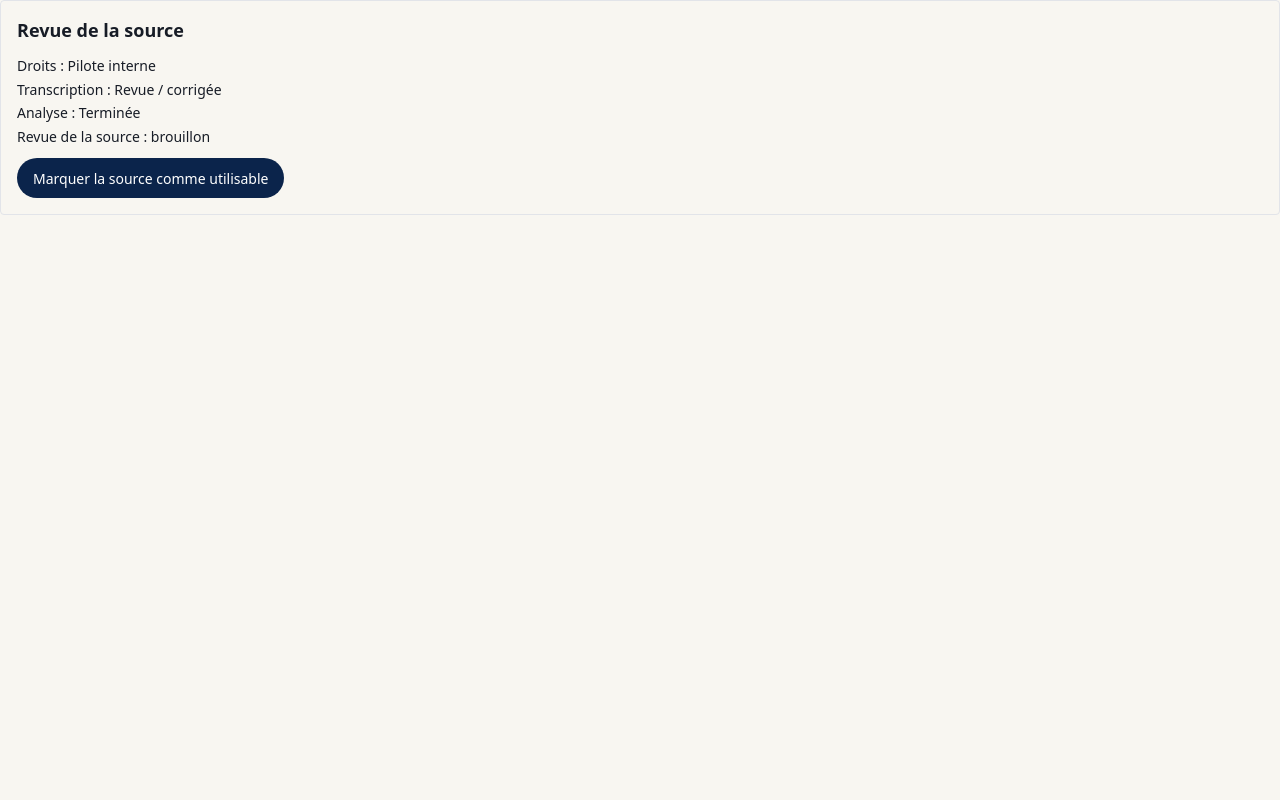
explicit source review › displays server refusal TRANSCRIPTION_NOT_FOUND
The image size is (1280, 800).
Click the button "Marquer la source comme utilisable" at (151, 178), box [17,158,284,198]
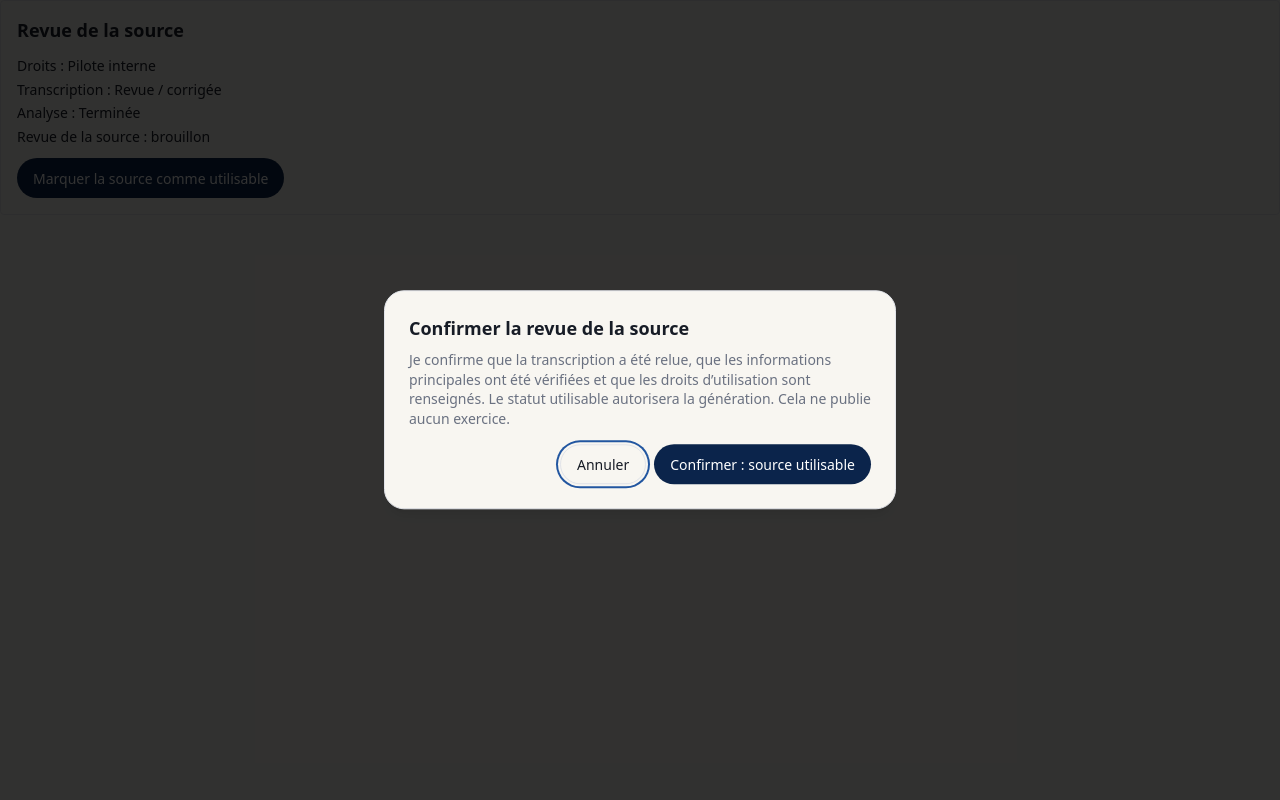
Now the button "Confirmer : source utilisable" is shown
Click the button "Confirmer : source utilisable" at (763, 465), box [654,445,871,485]
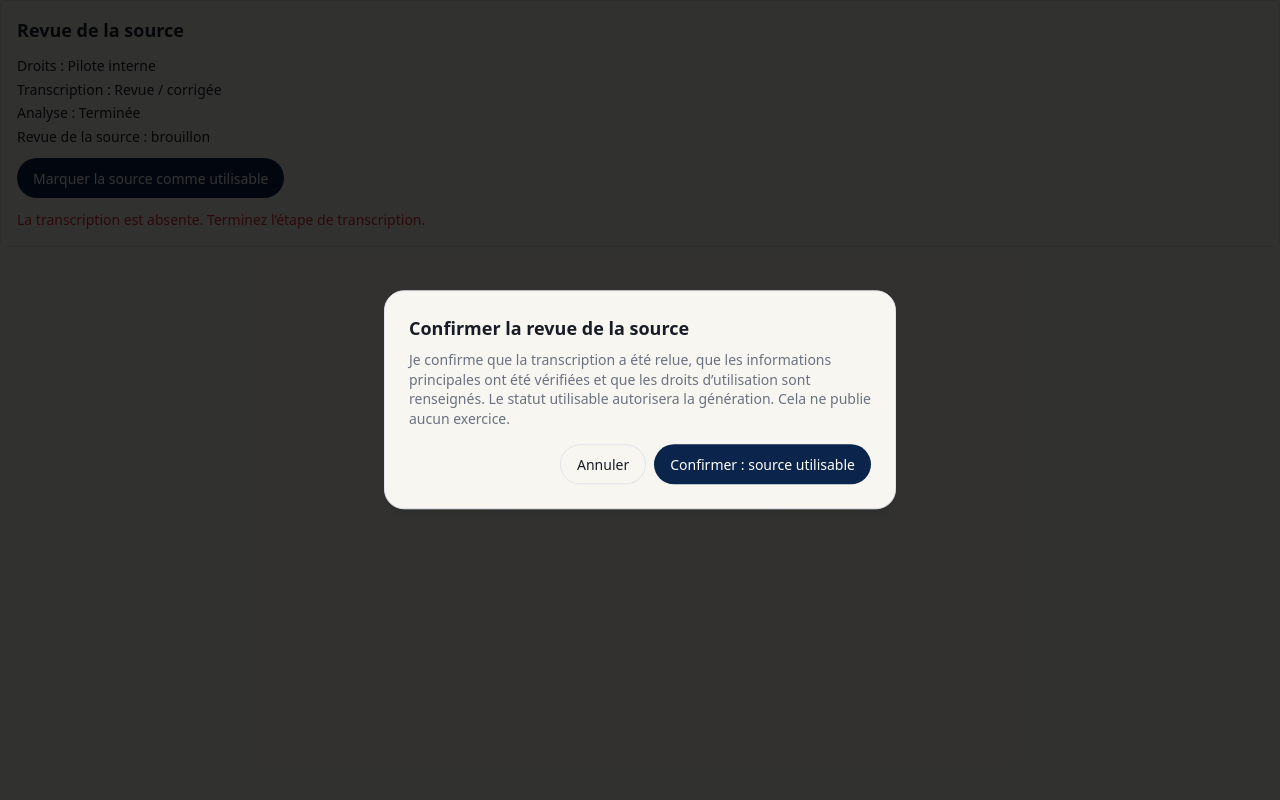
Now the message "La transcription est absente. Terminez l’étape de transcription." is shown, box [17,210,425,229]
